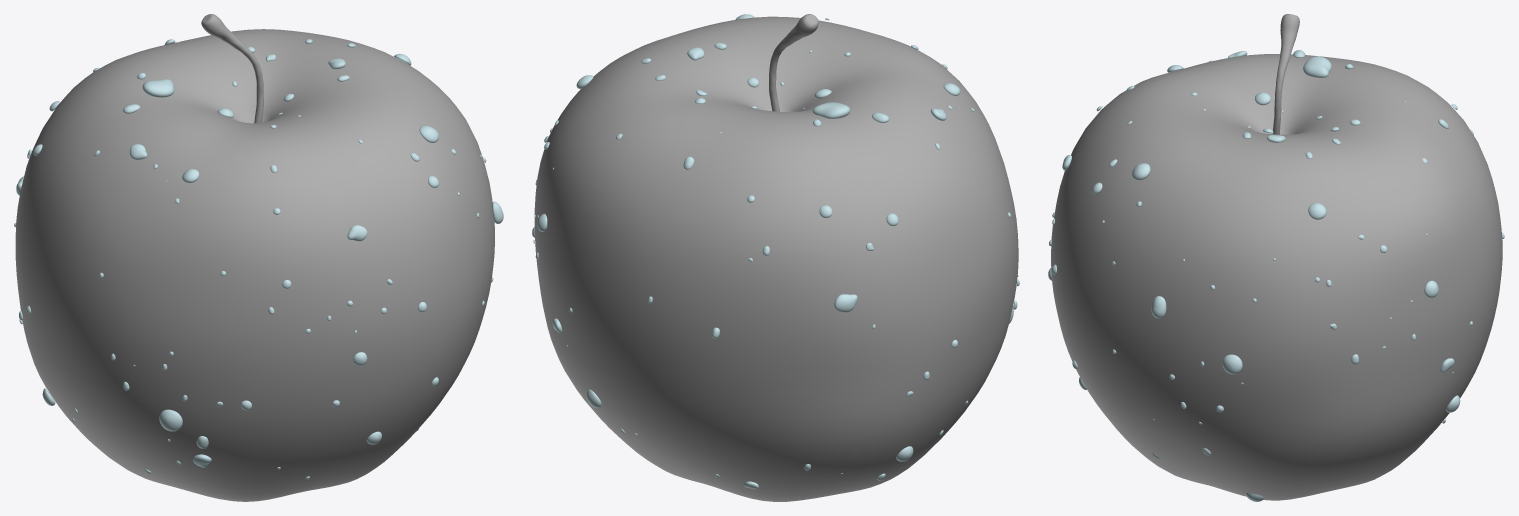
File: AppleRedWhole.fbx
3 views of the same model, side by side, from view 1: azimuth 30°, elevation 25°; view 2: azimuth 150°, elevation 25°; view 3: azimuth 270°, elevation 25° (orthographic). The views are drawn at different scales.
Parts seen in each view (by area): view 1: appleRedBodyWhole, appleGreenWaterWhole; view 2: appleRedBodyWhole, appleGreenWaterWhole; view 3: appleRedBodyWhole, appleGreenWaterWhole.
Boxes of the visible parts, x1,y1,x2,y2 form: appleRedBodyWhole: (15, 14, 494, 501); appleGreenWaterWhole: (14, 39, 503, 479); appleRedBodyWhole: (534, 14, 1018, 501); appleGreenWaterWhole: (532, 14, 1019, 489); appleRedBodyWhole: (1051, 14, 1502, 500); appleGreenWaterWhole: (1048, 50, 1504, 501).
Size of the model in its own units: 9.37 by 9.54 by 9.21.
